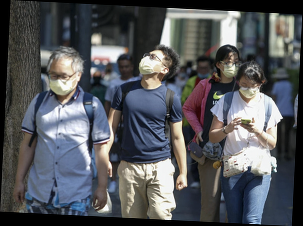mask_weared_incorrect: (197, 62, 211, 80)
with_mask: (47, 67, 79, 96), (139, 52, 165, 77), (238, 78, 261, 100), (219, 55, 240, 78)
without_mask: (118, 61, 133, 78)
